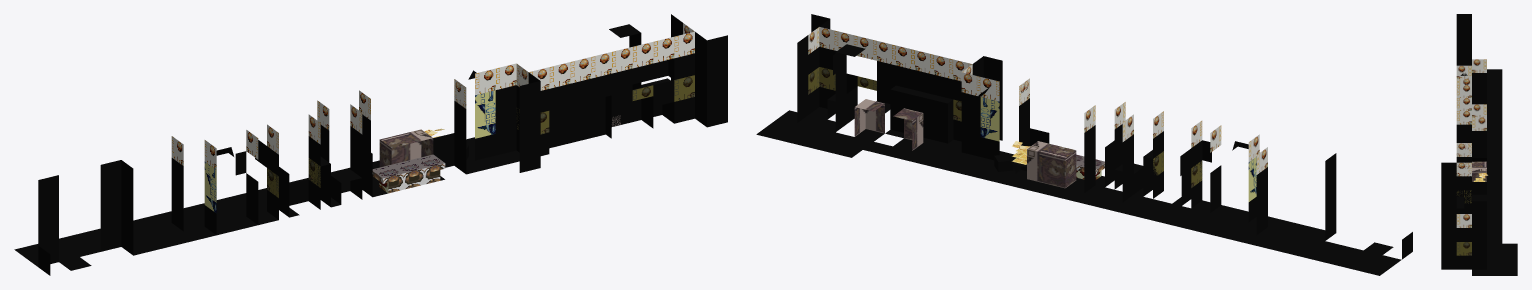
File: catalog.obj
The picture shows the model from 3 angles, left to right: view 1: azimuth 30°, elevation 25°; view 2: azimuth 150°, elevation 25°; view 3: azimuth 270°, elevation 25°; orthographic projection. The views are drawn at different scales.
Parts seen in each view (by area): view 1: cell_1_0, cell_8_0, cell_28_0, cell_5_0, cell_10_1, cell_9_1, cell_31_0, cell_2_0, cell_6_0, cell_3_0, cell_7_0, cell_4_0 (+19 smaller); view 2: cell_1_0, cell_7_0, cell_8_0, cell_9_1, cell_10_1, cell_5_0, cell_6_0, cell_21_0, cell_16_1, cell_1_1, cell_4_1, cell_14_1 (+20 smaller); view 3: cell_1_0, cell_8_0, cell_1_1, cell_31_0, cell_24_1, cell_16_1, cell_16_0, cell_9_0, cell_11_0, cell_17_0, cell_23_0, cell_17_1 (+50 smaller).
Part boxes in pixels (x1=…): cell_1_0: x1=674, y1=23, x2=727, y2=127; cell_8_0: x1=516, y1=64, x2=549, y2=172; cell_28_0: x1=100, y1=160, x2=133, y2=255; cell_5_0: x1=585, y1=52, x2=611, y2=139; cell_10_1: x1=468, y1=68, x2=495, y2=160; cell_9_1: x1=495, y1=63, x2=516, y2=155; cell_31_0: x1=38, y1=175, x2=58, y2=275; cell_2_0: x1=647, y1=37, x2=674, y2=123; cell_6_0: x1=564, y1=57, x2=590, y2=144; cell_3_0: x1=620, y1=42, x2=653, y2=128; cell_7_0: x1=549, y1=62, x2=570, y2=148; cell_4_0: x1=611, y1=47, x2=632, y2=126; cell_1_0: x1=808, y1=14, x2=838, y2=119; cell_7_0: x1=924, y1=55, x2=953, y2=147; cell_8_0: x1=943, y1=56, x2=1002, y2=152; cell_9_1: x1=951, y1=72, x2=980, y2=164; cell_10_1: x1=970, y1=77, x2=999, y2=169; cell_5_0: x1=885, y1=45, x2=914, y2=138; cell_6_0: x1=909, y1=50, x2=934, y2=142; cell_21_0: x1=1180, y1=121, x2=1211, y2=212; cell_16_1: x1=1084, y1=105, x2=1114, y2=197; cell_1_1: x1=797, y1=35, x2=826, y2=127; cell_4_1: x1=854, y1=99, x2=884, y2=141; cell_14_1: x1=1046, y1=145, x2=1076, y2=188; cell_1_0: x1=1441, y1=214, x2=1471, y2=269; cell_8_0: x1=1441, y1=162, x2=1471, y2=213; cell_1_1: x1=1472, y1=214, x2=1486, y2=269; cell_31_0: x1=1456, y1=14, x2=1471, y2=65; cell_24_1: x1=1472, y1=59, x2=1486, y2=104; cell_16_1: x1=1472, y1=117, x2=1486, y2=157; cell_16_0: x1=1456, y1=111, x2=1471, y2=142; cell_9_0: x1=1456, y1=162, x2=1471, y2=213; cell_11_0: x1=1456, y1=143, x2=1471, y2=162; cell_17_0: x1=1456, y1=111, x2=1471, y2=141; cell_23_0: x1=1456, y1=65, x2=1471, y2=78; cell_17_1: x1=1472, y1=104, x2=1486, y2=117.
Bounding box in the file's own units: 0.5 × 0.0625 × 0.0781.
43 materials, 43 textured.
